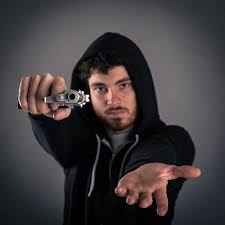gun: (40, 87, 94, 110)
